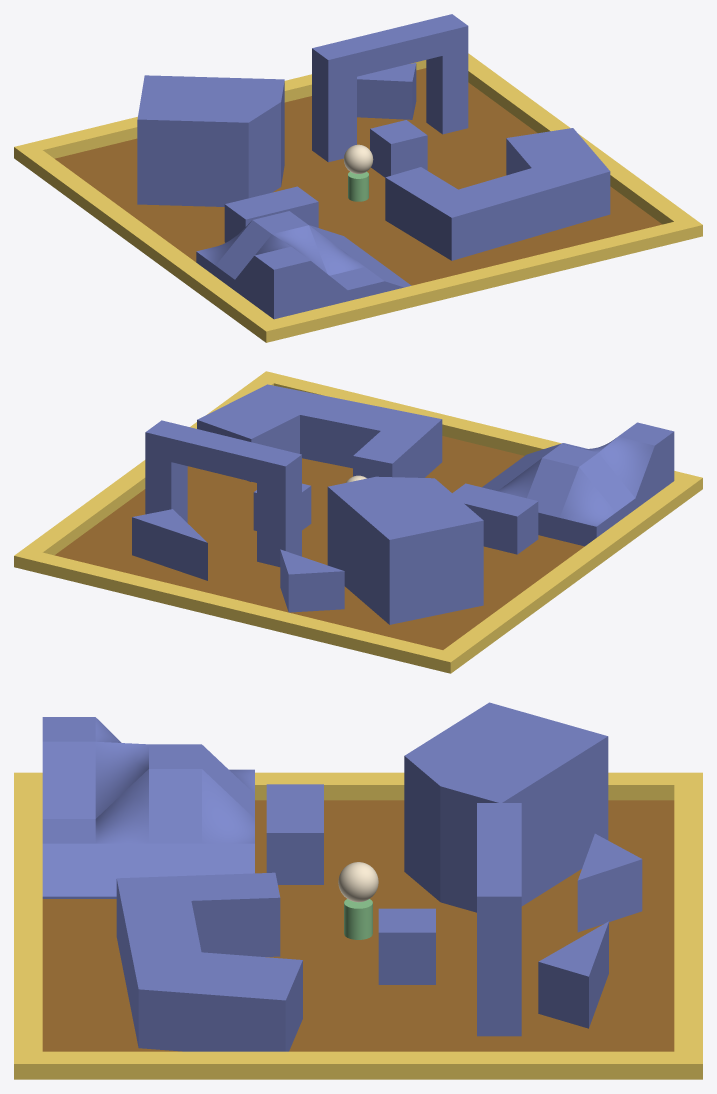
3 renders of one model, top to bottom at view 1: azimuth 30°, elevation 25°; view 2: azimuth 150°, elevation 25°; view 3: azimuth 270°, elevation 25°, orthographic. The views are drawn at different scales.
Parts seen in each view (by area): view 1: ground, wall, Body3, Body5, Body8, Body10, Body7, Body1, Body2, head, Body1.001; view 2: ground, wall, Body3, Body5, Body8, Body10, Body7, Body2, Body6, Body1; view 3: ground, wall, Body8, Body3, Body5, Body10, Body2, Body7, Body6, Body1, head, Body1.001.
Part boxes in pixels (bbox=[...]): ground: bbox=[55, 68, 662, 285]; wall: bbox=[14, 53, 702, 342]; Body3: bbox=[137, 75, 284, 206]; Body5: bbox=[385, 128, 610, 260]; Body8: bbox=[196, 211, 411, 319]; Body10: bbox=[312, 14, 468, 162]; Body7: bbox=[357, 63, 416, 119]; Body1: bbox=[370, 120, 427, 177]; Body2: bbox=[224, 186, 318, 242]; head: bbox=[343, 144, 373, 173]; Body1.001: bbox=[348, 171, 368, 201]; ground: bbox=[54, 436, 584, 649]; wall: bbox=[14, 371, 702, 673]; Body3: bbox=[327, 476, 483, 624]; Body5: bbox=[197, 384, 442, 481]; Body8: bbox=[482, 422, 674, 546]; Body10: bbox=[145, 420, 301, 567]; Body7: bbox=[132, 509, 207, 580]; Body2: bbox=[452, 483, 538, 554]; Body6: bbox=[280, 549, 344, 612]; Body1: bbox=[253, 483, 311, 530]; ground: bbox=[42, 800, 674, 1051]; wall: bbox=[14, 772, 702, 1079]; Body8: bbox=[42, 717, 254, 898]; Body3: bbox=[404, 702, 608, 912]; Body5: bbox=[116, 872, 302, 1051]; Body10: bbox=[477, 803, 521, 1036]; Body2: bbox=[266, 784, 323, 884]; Body7: bbox=[538, 921, 608, 1028]; Body6: bbox=[577, 833, 642, 932]; Body1: bbox=[378, 908, 435, 984]; head: bbox=[338, 862, 378, 902]; Body1.001: bbox=[344, 899, 372, 939].
Bounding box in the file's own units: 12 × 2.68 × 12.
